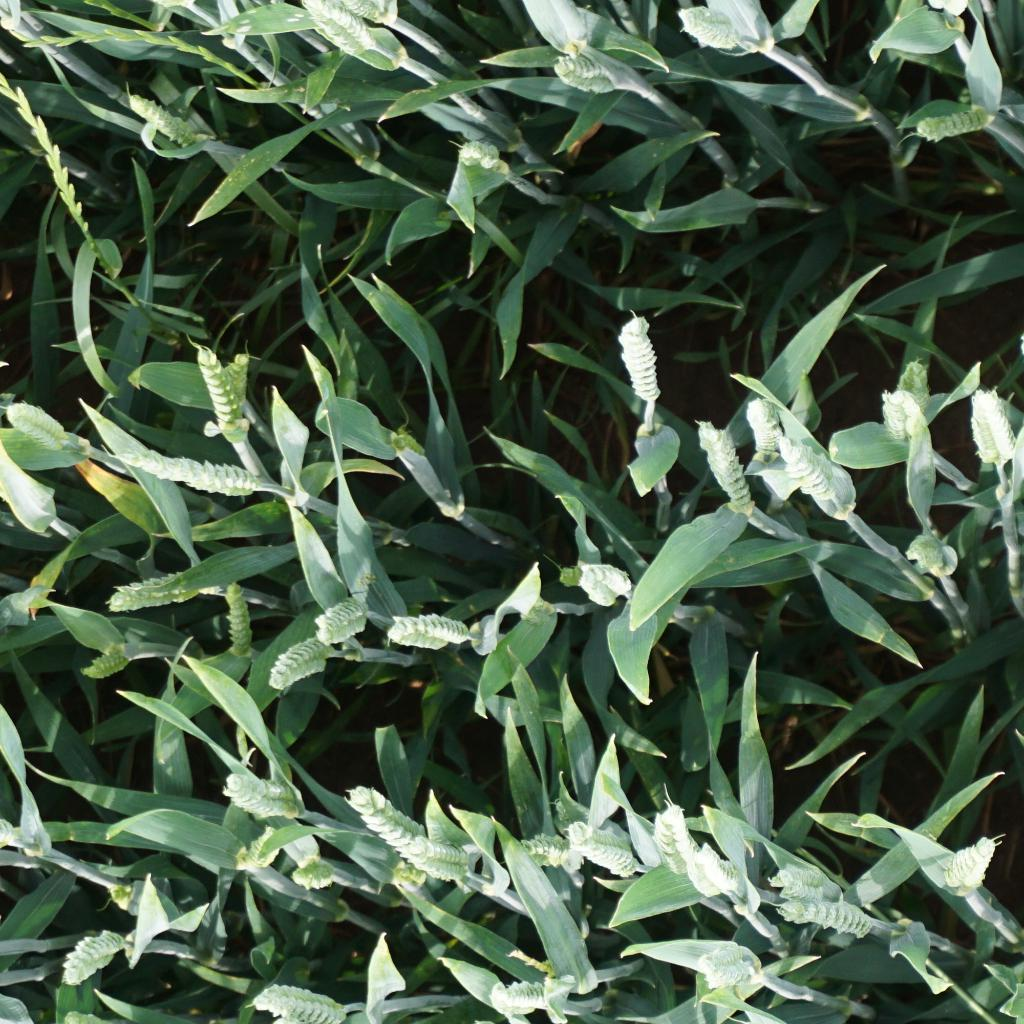0-0: (114, 449, 264, 496), (350, 785, 434, 865), (692, 416, 755, 514), (966, 384, 1024, 484), (297, 0, 379, 55), (246, 978, 341, 1024), (939, 832, 1005, 898), (197, 346, 248, 429), (107, 567, 207, 609), (381, 608, 477, 651), (267, 632, 333, 694), (617, 313, 660, 408), (126, 89, 196, 146), (221, 768, 304, 816), (62, 930, 126, 989), (690, 949, 775, 993), (777, 434, 835, 498), (571, 818, 632, 877), (775, 901, 872, 937), (650, 807, 701, 875), (402, 840, 476, 885), (545, 50, 619, 94), (570, 558, 632, 610), (8, 403, 68, 455), (911, 101, 992, 139), (678, 2, 739, 51), (314, 591, 367, 647), (765, 863, 839, 903), (680, 842, 735, 894), (738, 399, 787, 457), (876, 387, 929, 439), (81, 632, 133, 681), (516, 834, 580, 870), (225, 577, 252, 650), (334, 0, 393, 33), (494, 976, 545, 1014), (243, 824, 284, 871), (218, 349, 253, 402), (452, 137, 503, 171), (288, 857, 337, 891), (905, 531, 947, 568), (896, 359, 928, 406), (392, 429, 424, 458)
